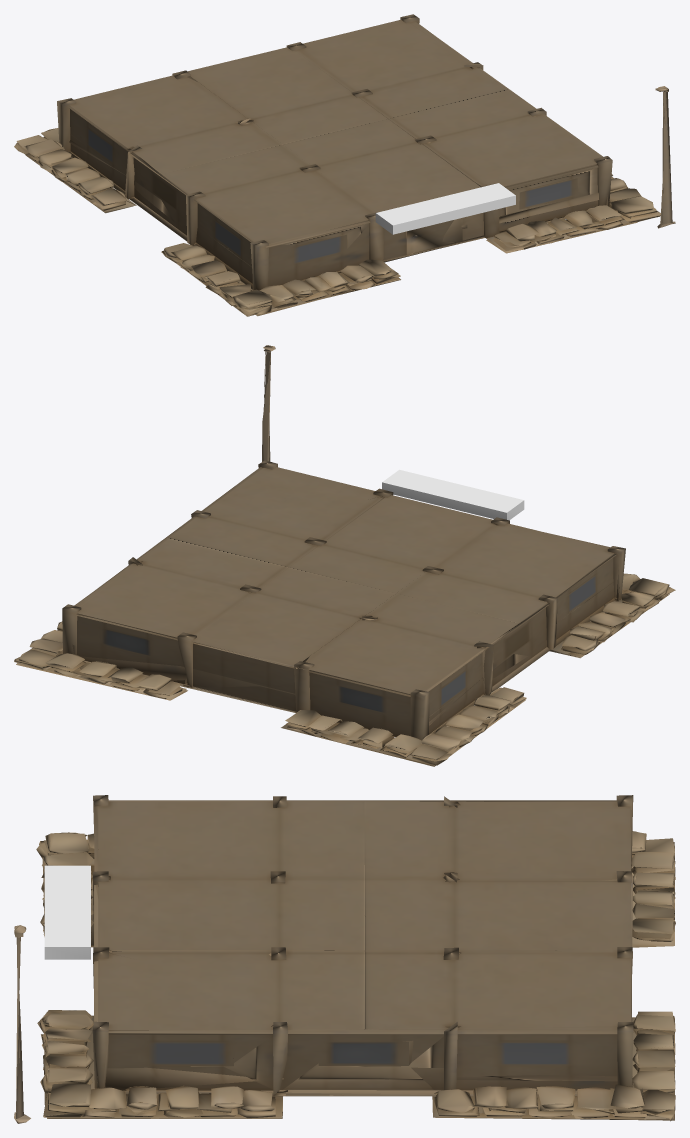
Rendered from us-barracks.glb.
3 renders of one model, top to bottom at view 1: azimuth 30°, elevation 25°; view 2: azimuth 150°, elevation 25°; view 3: azimuth 270°, elevation 25°, orthographic. The views are drawn at different scales.
Visible parts, largest first — view 1: us-barracks; view 2: us-barracks; view 3: us-barracks.
Boxes of the visible parts, x1=… form: us-barracks: x1=14, y1=14, x2=675, y2=316; us-barracks: x1=14, y1=345, x2=675, y2=766; us-barracks: x1=14, y1=795, x2=675, y2=1123.
Bounding box in the file's own units: 2.58 × 0.81 × 2.58.
2 materials, 1 textured.
